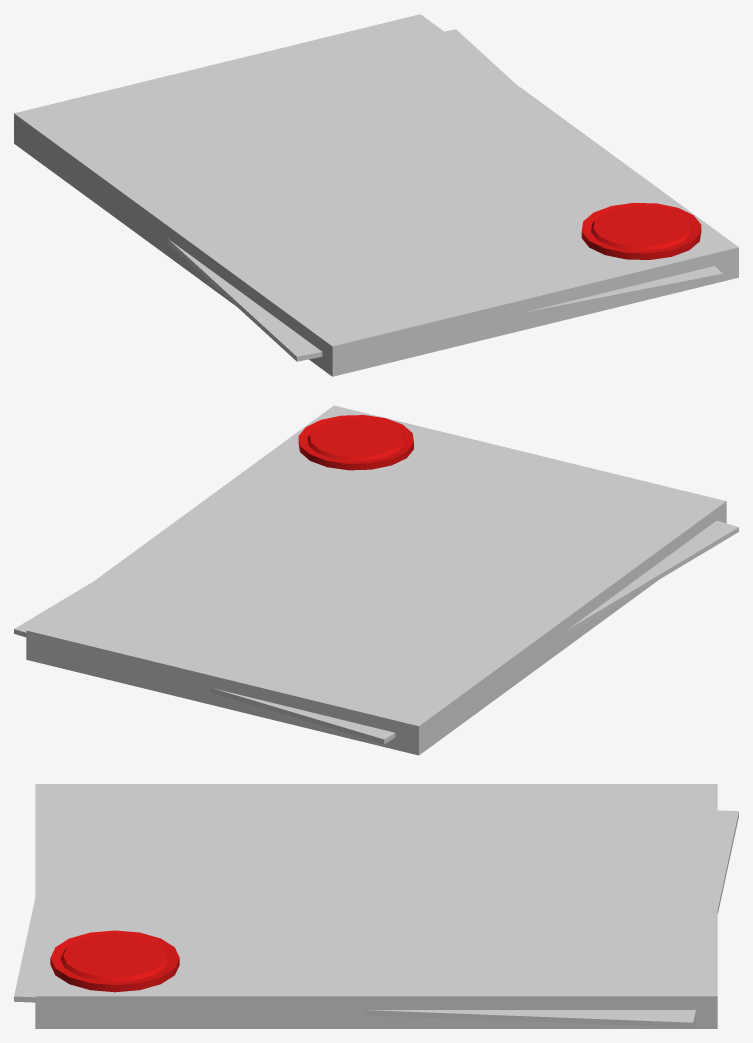
The model's file is will.fbx.
3 views of the same model, one above another, from view 1: azimuth 30°, elevation 25°; view 2: azimuth 150°, elevation 25°; view 3: azimuth 270°, elevation 25° (orthographic). The views are drawn at different scales.
Visible parts, largest first — view 1: Will; view 2: Will; view 3: Will.
Part boxes in pixels (x1,y1,x2,y2): Will: [14, 14, 738, 376]; Will: [14, 405, 738, 755]; Will: [14, 784, 738, 1028].
Size of the model in its own units: 41.99 by 54.12 by 3.45.
